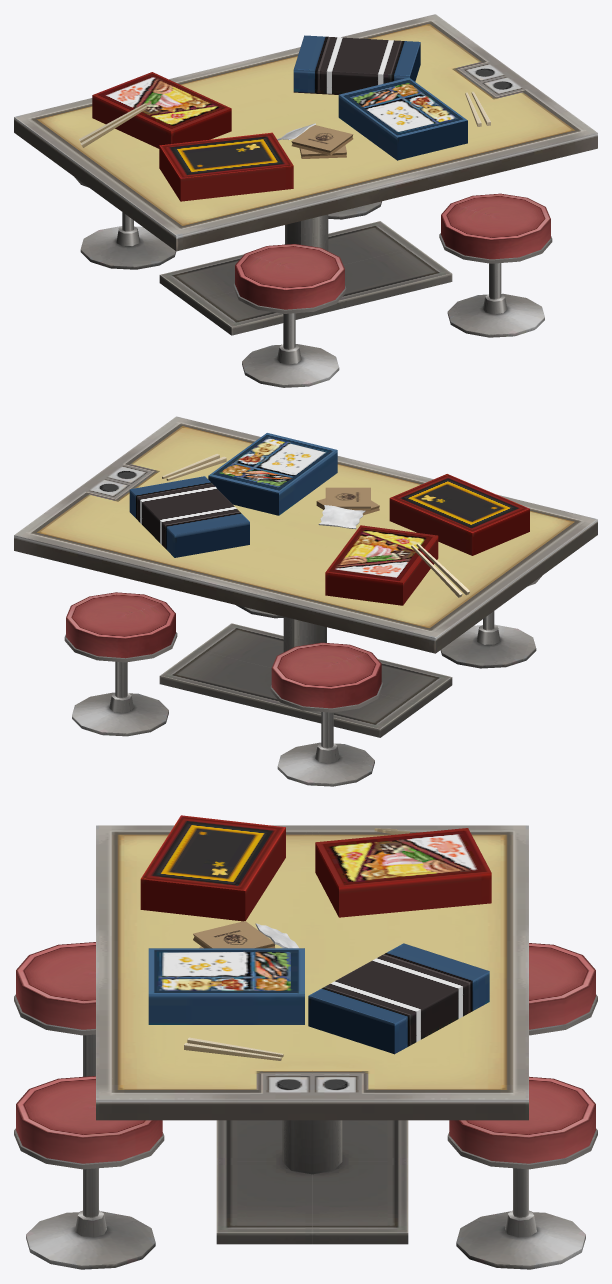
File: my_highlander_01_table_02.glb
3 renders of one model, top to bottom at view 1: azimuth 30°, elevation 25°; view 2: azimuth 150°, elevation 25°; view 3: azimuth 270°, elevation 25°, orthographic. The views are drawn at different scales.
Visible parts, largest first — view 1: my_highlander_01_table_02; view 2: my_highlander_01_table_02; view 3: my_highlander_01_table_02.
Part boxes in pixels (x1,y1,x2,y2): my_highlander_01_table_02: [14, 14, 597, 387]; my_highlander_01_table_02: [14, 416, 597, 786]; my_highlander_01_table_02: [14, 815, 597, 1269].
Bounding box in the file's own units: 0.0114 × 0.00497 × 0.0103.
1 material, 1 textured.
